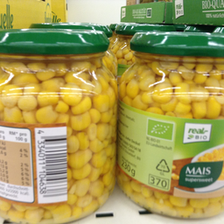corn: (1, 29, 116, 223), (117, 30, 224, 219)
